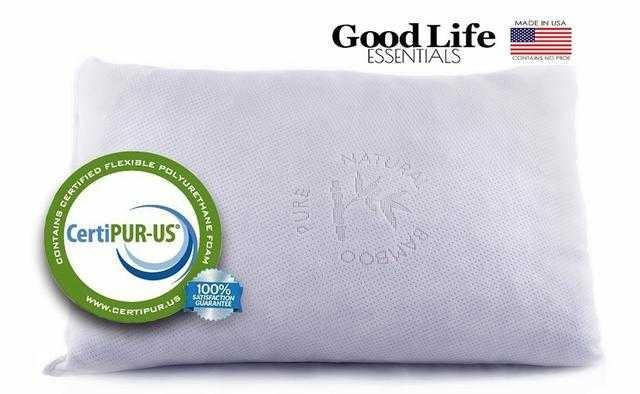pillow: (44, 54, 604, 374)
